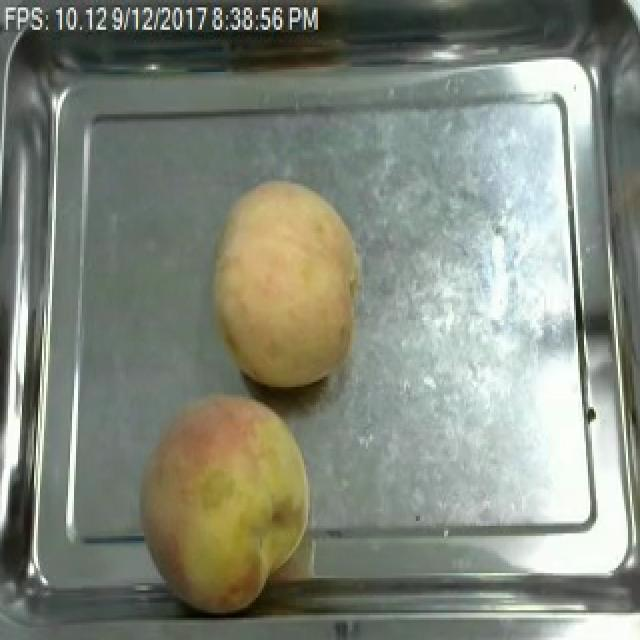Fruit: (134, 382, 322, 620), (204, 171, 370, 395)
